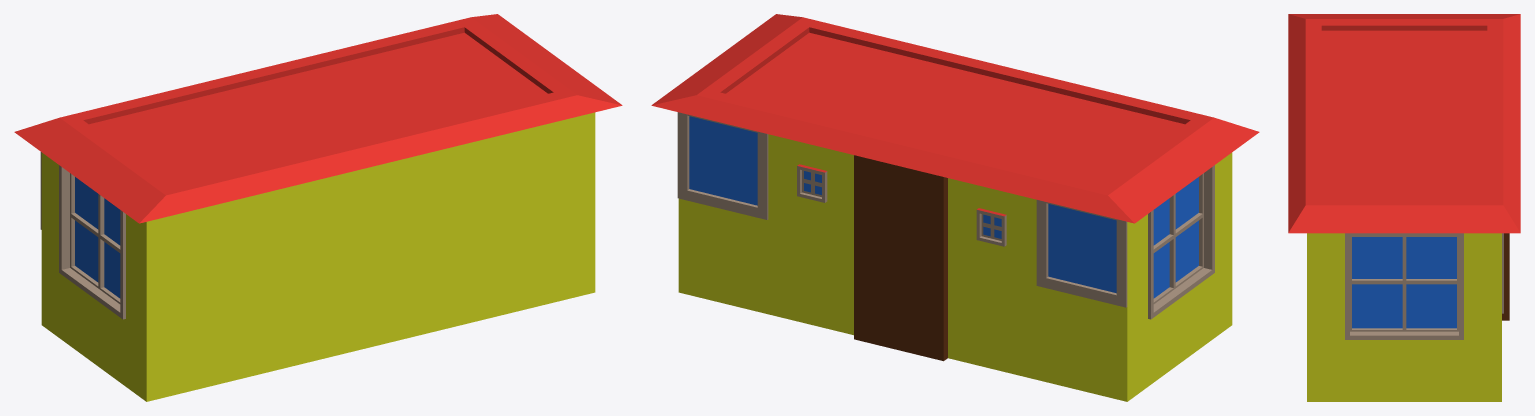
File: Station Light Yella.fbx
3 views of the same model, side by side, from view 1: azimuth 30°, elevation 25°; view 2: azimuth 150°, elevation 25°; view 3: azimuth 270°, elevation 25° (orthographic). The views are drawn at different scales.
Parts seen in each view (by area): view 1: Cube.006; view 2: Cube.006; view 3: Cube.006.
Part boxes in pixels (left/top/right/bottom): Cube.006: left=14, top=14, right=622, bottom=401; Cube.006: left=651, top=14, right=1259, bottom=401; Cube.006: left=1288, top=14, right=1520, bottom=401.
Bounding box in the file's own units: 3261 × 1304 × 1461.
